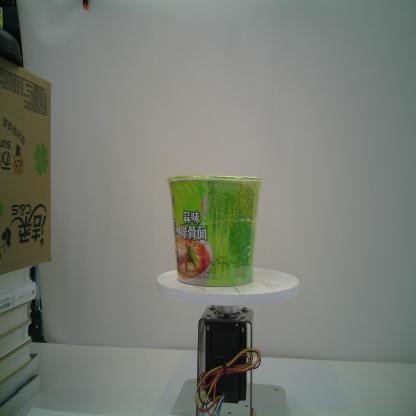Instant Noodles: (165, 173, 264, 288)
